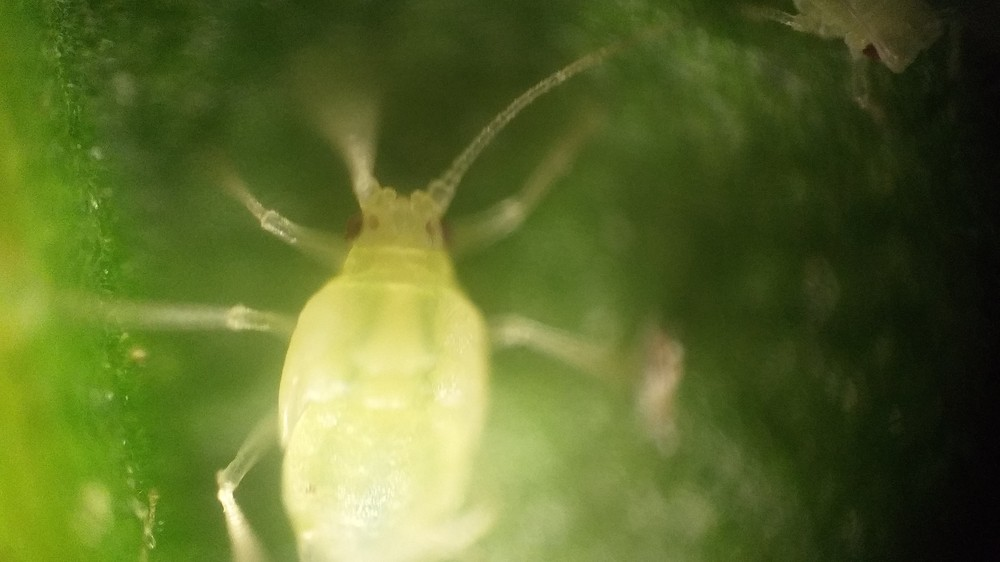Pulgon: (142, 56, 636, 560)
